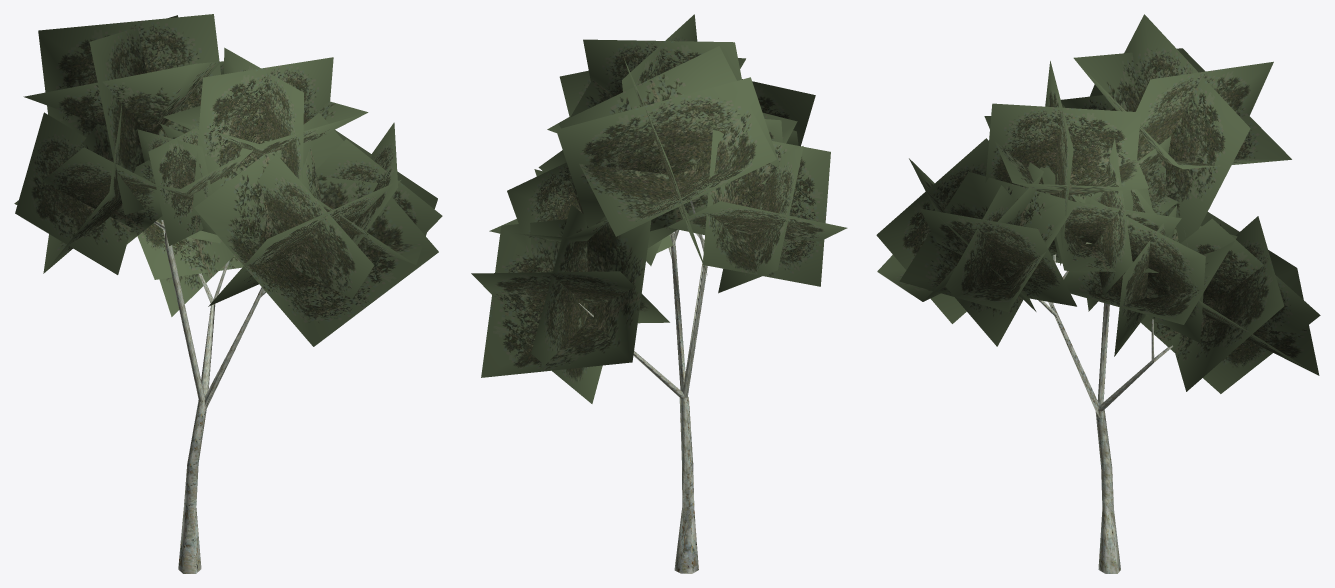
File: ever_eucalyptus_tall_l0.fbx
3 renders of one model, left to right at view 1: azimuth 30°, elevation 25°; view 2: azimuth 150°, elevation 25°; view 3: azimuth 270°, elevation 25°, orthographic. The views are drawn at different scales.
Parts seen in each view (by area): view 1: mesh_node; view 2: mesh_node; view 3: mesh_node.
Boxes of the visible parts, left/top/right/bottom form: mesh_node: left=14, top=14, right=442, bottom=573; mesh_node: left=471, top=14, right=847, bottom=573; mesh_node: left=876, top=14, right=1320, bottom=573.
Size of the model in its own units: 16.91 by 23.68 by 18.47.
